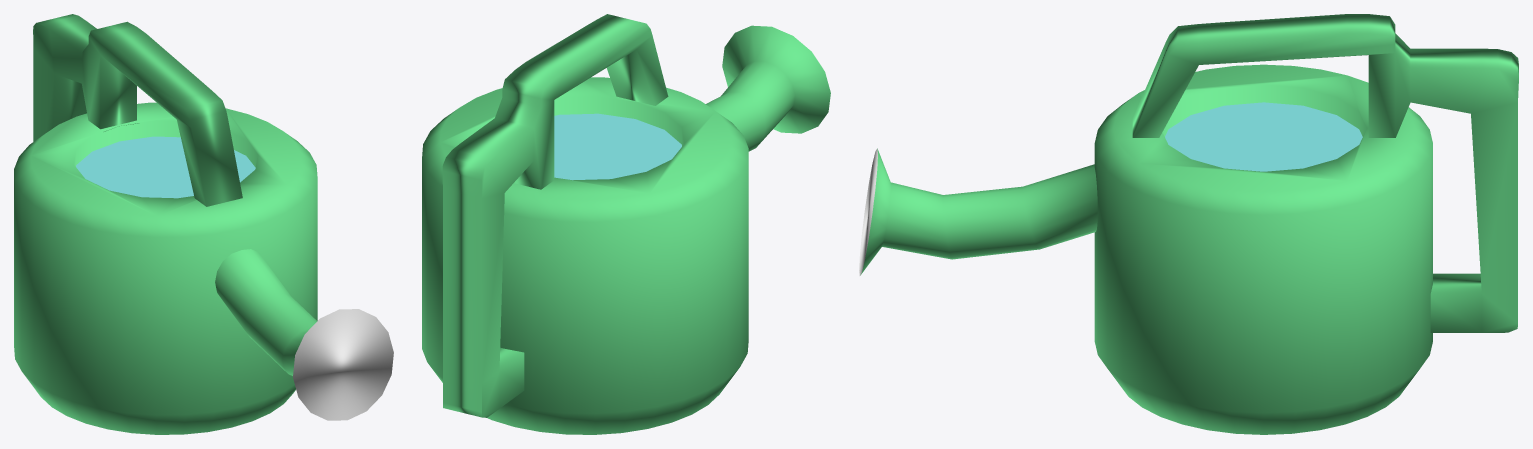
File: Watering Can.fbx
3 renders of one model, left to right at view 1: azimuth 30°, elevation 25°; view 2: azimuth 150°, elevation 25°; view 3: azimuth 270°, elevation 25°, orthographic. The views are drawn at different scales.
Parts seen in each view (by area): view 1: Body, Handle, Water; view 2: Body, Handle, Water; view 3: Body, Handle, Water.
Boxes of the visible parts, x1,y1,x2,y2 form: Body: (14, 102, 393, 434); Handle: (33, 14, 242, 206); Water: (76, 136, 255, 198); Body: (422, 25, 830, 434); Handle: (442, 14, 668, 417); Water: (554, 113, 681, 180); Body: (859, 64, 1432, 434); Handle: (1132, 14, 1518, 332); Water: (1165, 102, 1362, 171).
Size of the model in its own units: 419 by 500 by 816.
